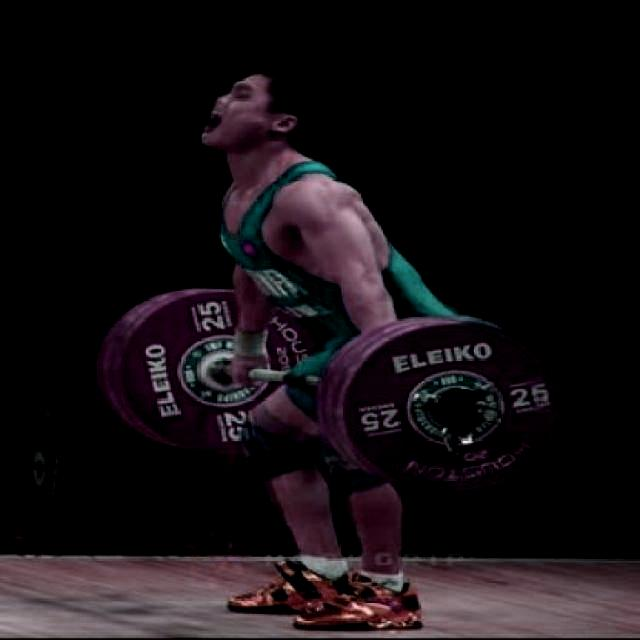barbell: (303, 303, 590, 502)
